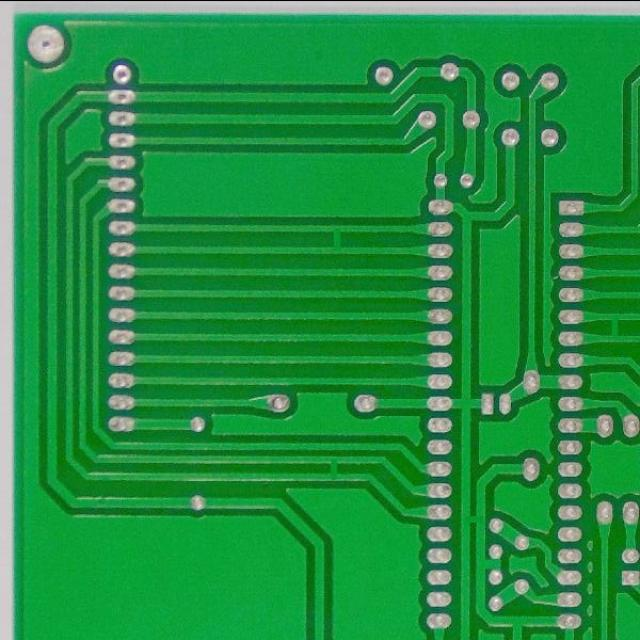Short_Circuit: (322, 220, 351, 259), (603, 307, 627, 348), (320, 452, 348, 486), (458, 507, 488, 531)
